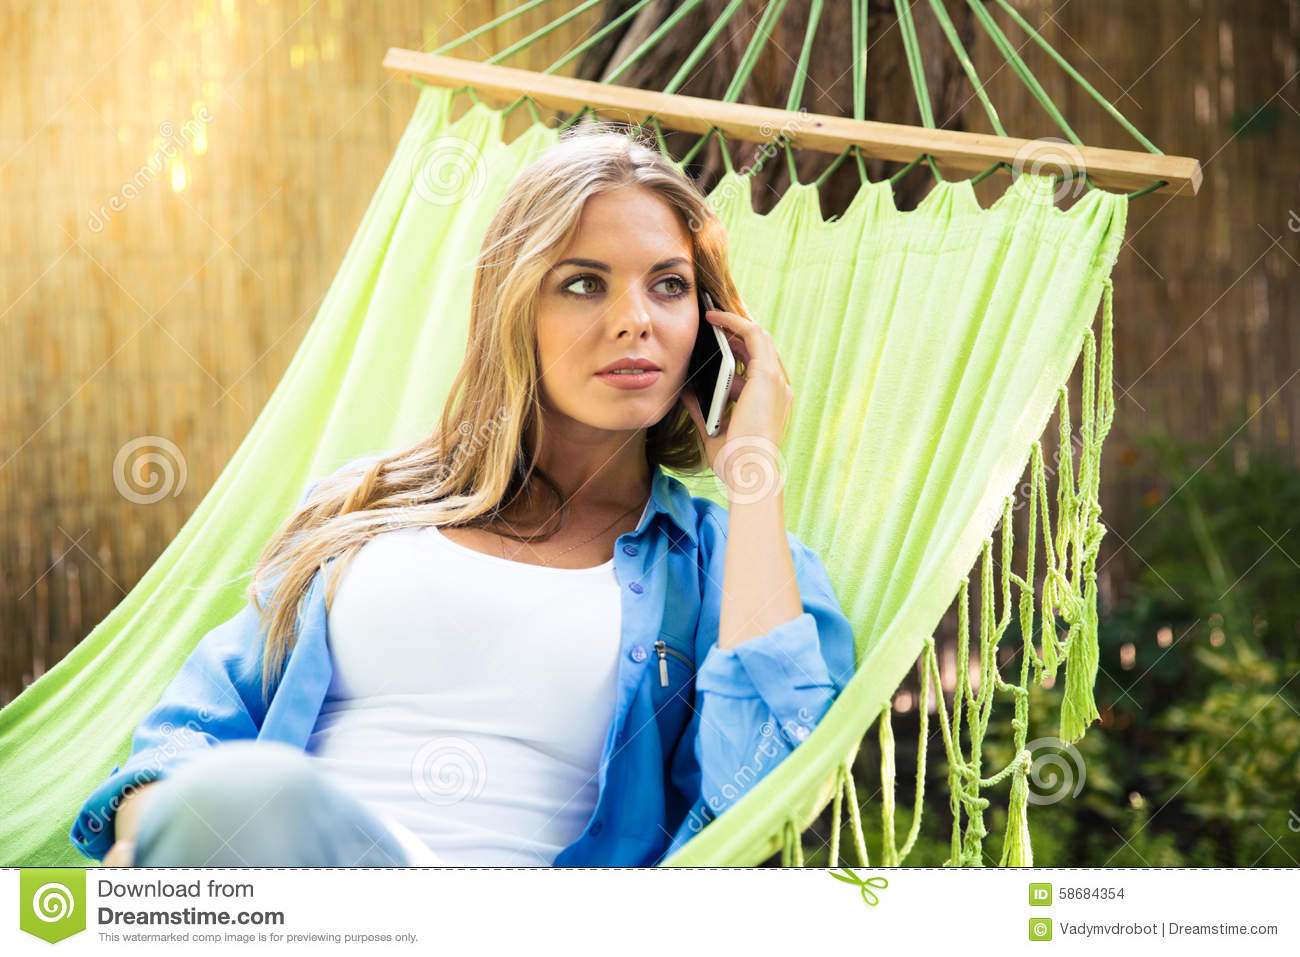phone: (686, 294, 741, 443)
talk: (538, 244, 794, 493)
